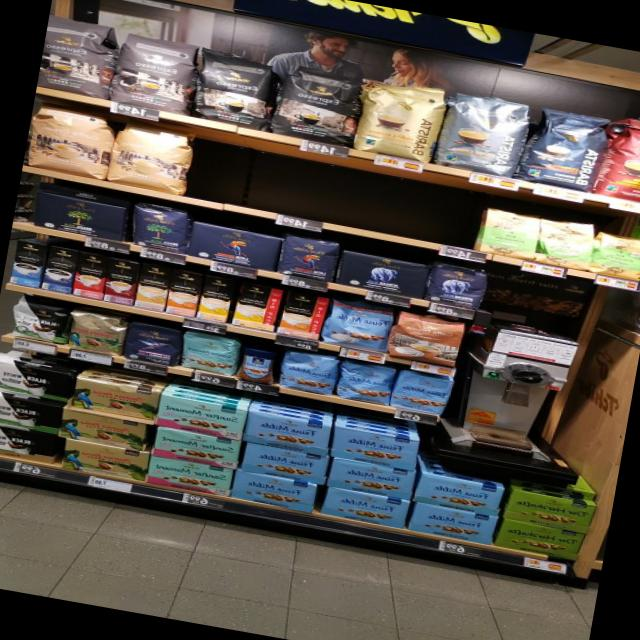AB Bohne: (424, 258, 492, 312)
AB Gemahlen: (335, 249, 432, 301)
Athiopien Bohne: (587, 230, 640, 283)
Athiopien Gemahlen: (469, 202, 544, 262), (532, 215, 598, 272)
BM Bohne: (126, 199, 193, 254)
BM Gemahlen: (32, 190, 128, 242)
BW Bohne: (5, 292, 76, 346)
BW Gemahlen: (0, 357, 77, 403), (0, 390, 66, 436), (0, 421, 59, 464)
Barista CB: (351, 72, 452, 164)
Barista CC: (432, 87, 538, 181)
Barista Espresso: (514, 102, 614, 195)
Barista Kolumbien: (590, 112, 640, 207)
C Fino Bohne: (119, 320, 185, 368)
CC Mild: (104, 116, 202, 197), (24, 101, 119, 180)
CC Vollmundig: (384, 308, 468, 370)
Colombia BB Bohne: (65, 304, 129, 358)
Colombia BB Gemahlen: (57, 436, 155, 484), (68, 375, 160, 422), (57, 408, 152, 452)
Empty Shelf: (201, 147, 471, 247)
Espresso Aromatisch: (105, 30, 202, 116), (36, 13, 124, 102)
Espresso Kraftig: (268, 63, 368, 148), (188, 44, 281, 131)
FM 36 Pads: (318, 294, 396, 355)
FM Bohne: (274, 344, 342, 396), (387, 365, 455, 417), (334, 357, 399, 408)
FM Gemahlen: (328, 424, 420, 472), (316, 484, 411, 530), (405, 500, 500, 546), (237, 440, 331, 486), (241, 410, 334, 456), (410, 471, 504, 516), (326, 456, 418, 501), (228, 468, 318, 512)
FM Instant: (235, 346, 281, 388)
Herzhatfe Mundig: (504, 489, 596, 534), (494, 517, 586, 561)
LG Bohne: (274, 230, 342, 284)
LG Gemahlen: (184, 219, 284, 272)
SM Bohne: (178, 329, 240, 377)
SM Gemahlen: (150, 392, 250, 442), (150, 426, 241, 472), (144, 454, 236, 498)
Simo CCMild: (228, 280, 284, 332)
Simo CCMild bigpack: (195, 274, 237, 324)
Simo CCVollmundig: (274, 288, 332, 342)
Simo CCVollmundig bigpack: (164, 268, 204, 318)
Simo Decaff: (132, 262, 171, 313)
Simo Es Elegant: (70, 251, 109, 300)
Simo Es Kraft: (100, 256, 140, 306)
Simo Kaffee Kraft: (39, 244, 78, 294)
Simo Kaffee Mild: (7, 238, 48, 289)
